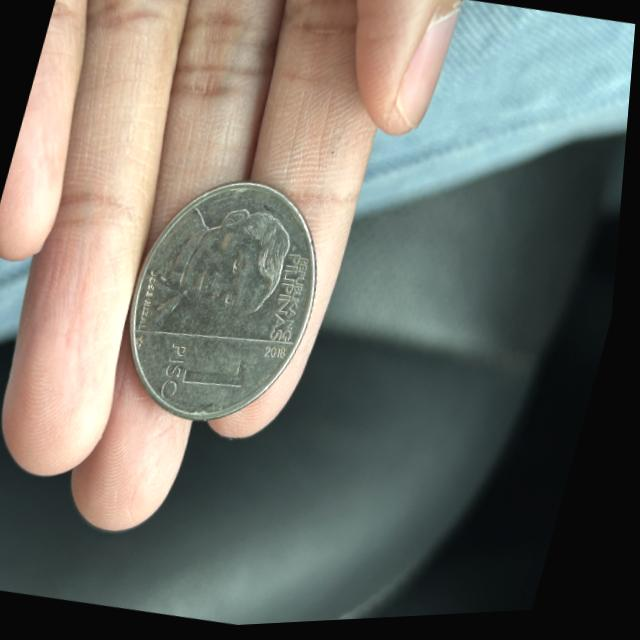1_New_Front: (158, 331, 271, 428)
